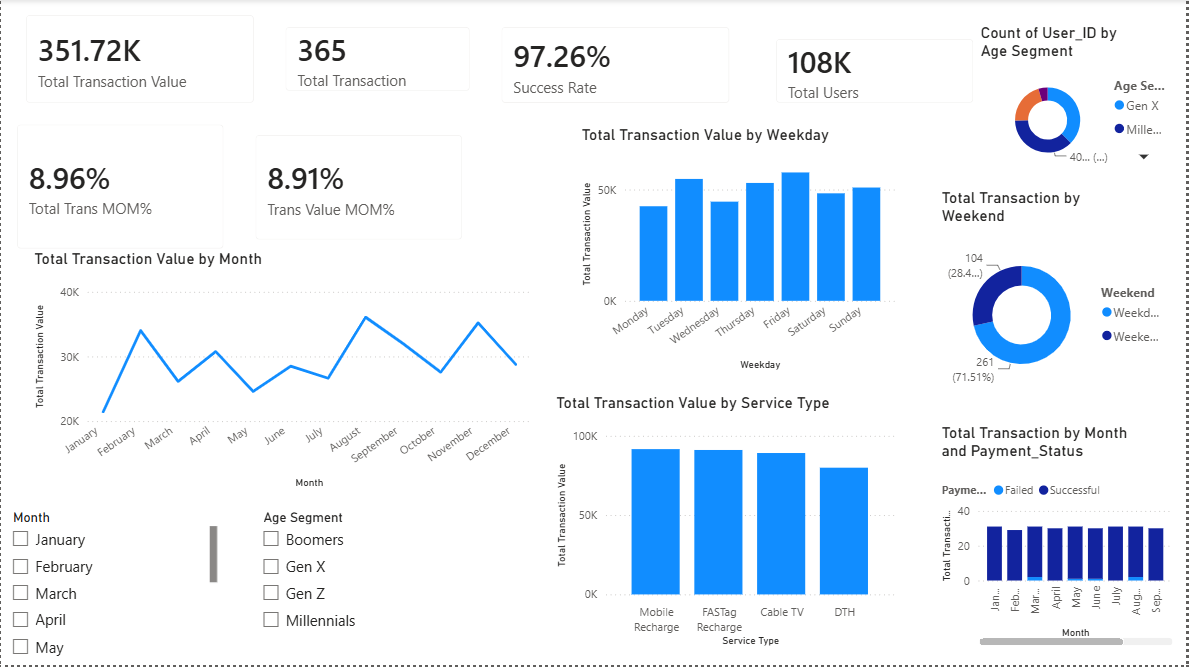

The page's visual inventory and layout, read from the dashboard file:
{"tool":"powerbi","page":{"name":"Page 1","canvas":[1280,720],"ordinal":0},"visuals":[{"type":"cardVisual","fields":{"Data":["Measures (2).Total Transaction  Value"]},"box":[9.7,0,280.1,129.5],"z":0},{"type":"cardVisual","fields":{"Data":["Measures (2).Total Transaction"]},"box":[289.8,13,233.2,103.6],"z":1000},{"type":"cardVisual","fields":{"Data":["Measures (2).Success Rate"]},"box":[523,13,280.1,116.6],"z":2000},{"type":"cardVisual","fields":{"Data":["Measures (2).Total Users"]},"box":[819.3,25.9,247.7,103.6],"z":3000},{"type":"slicer","fields":{"Values":["Date_Table.Month"]},"box":[0,545.7,238,174.9],"z":4000},{"type":"cardVisual","fields":{"Data":["Measures (2).Total Trans MOM%"]},"box":[0,118.2,257.5,168.4],"z":5000},{"type":"cardVisual","fields":{"Data":["Measures (2).Trans Value MOM%"]},"box":[257.5,129.5,257.5,147.3],"z":6000},{"type":"lineChart","fields":{"Category":["Date_Table.Month"],"Y":["Measures (2).Total Transaction  Value"]},"box":[30.8,270.4,545.7,262.3],"z":7000},{"type":"columnChart","fields":{"Y":["Measures (2).Total Transaction  Value"],"Category":["All_Transactions.Service Type"]},"box":[594.3,425.9,375.7,276.9],"z":8000},{"type":"columnChart","fields":{"Category":["Date_Table.Month"],"Y":["Measures (2).Total Transaction"],"Series":["All_Transactions.Payment_Status"]},"box":[1010.4,458.2,259.1,244.5],"z":9000},{"type":"donutChart","fields":{"Category":["All_Users.Age Segment"],"Y":["CountNonNull(All_Users.User_ID)"]},"box":[1052.5,25.9,217,157.1],"z":10000},{"type":"donutChart","fields":{"Y":["Measures (2).Total Transaction"],"Category":["Date_Table.Weekend"]},"box":[1010.4,204,259.1,221.8],"z":11000},{"type":"columnChart","fields":{"Y":["Measures (2).Total Transaction  Value"],"Category":["Date_Table.Weekday"]},"box":[621.8,136,348.1,268.8],"z":12000},{"type":"slicer","fields":{"Values":["All_Users.Age Segment"]},"box":[270.4,545.7,265.6,174.9],"z":12001}]}

Visuals, with their boxes in screenshot pixels (x1, y1, x2, y2), scaled from the page's 1280x720 canvas onto the 1189x667 screenshot:
cardVisual - Measures (2).Total Transaction  Value: detection(9, 0, 269, 120)
cardVisual - Measures (2).Total Transaction: detection(269, 12, 486, 108)
cardVisual - Measures (2).Success Rate: detection(486, 12, 746, 120)
cardVisual - Measures (2).Total Users: detection(761, 24, 991, 120)
slicer - Date_Table.Month: detection(0, 506, 221, 666)
cardVisual - Measures (2).Total Trans MOM%: detection(0, 109, 239, 266)
cardVisual - Measures (2).Trans Value MOM%: detection(239, 120, 478, 256)
lineChart - Date_Table.Month x Measures (2).Total Transaction  Value: detection(29, 250, 536, 493)
columnChart - Measures (2).Total Transaction  Value x All_Transactions.Service Type: detection(552, 395, 901, 651)
columnChart - Date_Table.Month x Measures (2).Total Transaction: detection(939, 424, 1179, 651)
donutChart - All_Users.Age Segment x CountNonNull(All_Users.User_ID): detection(978, 24, 1179, 170)
donutChart - Measures (2).Total Transaction x Date_Table.Weekend: detection(939, 189, 1179, 394)
columnChart - Measures (2).Total Transaction  Value x Date_Table.Weekday: detection(578, 126, 901, 375)
slicer - All_Users.Age Segment: detection(251, 506, 498, 666)
